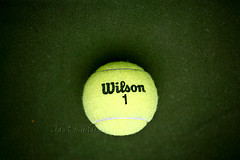tennis ball: (81, 60, 159, 136)
